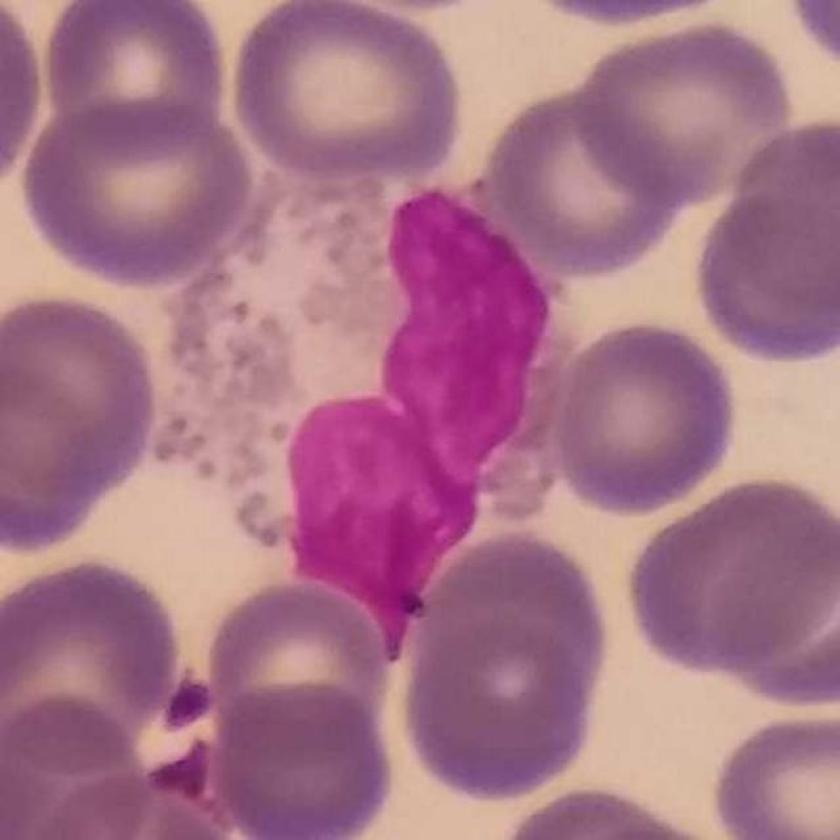eosinophil: (160, 159, 584, 669)
